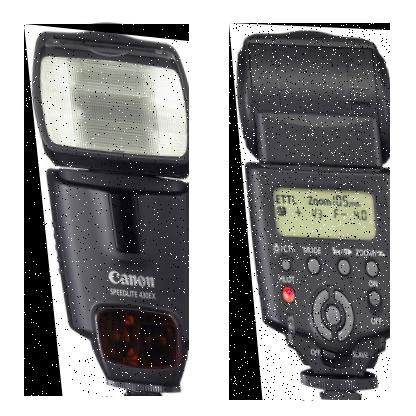Camera: (25, 25, 191, 398), (230, 24, 392, 402)
